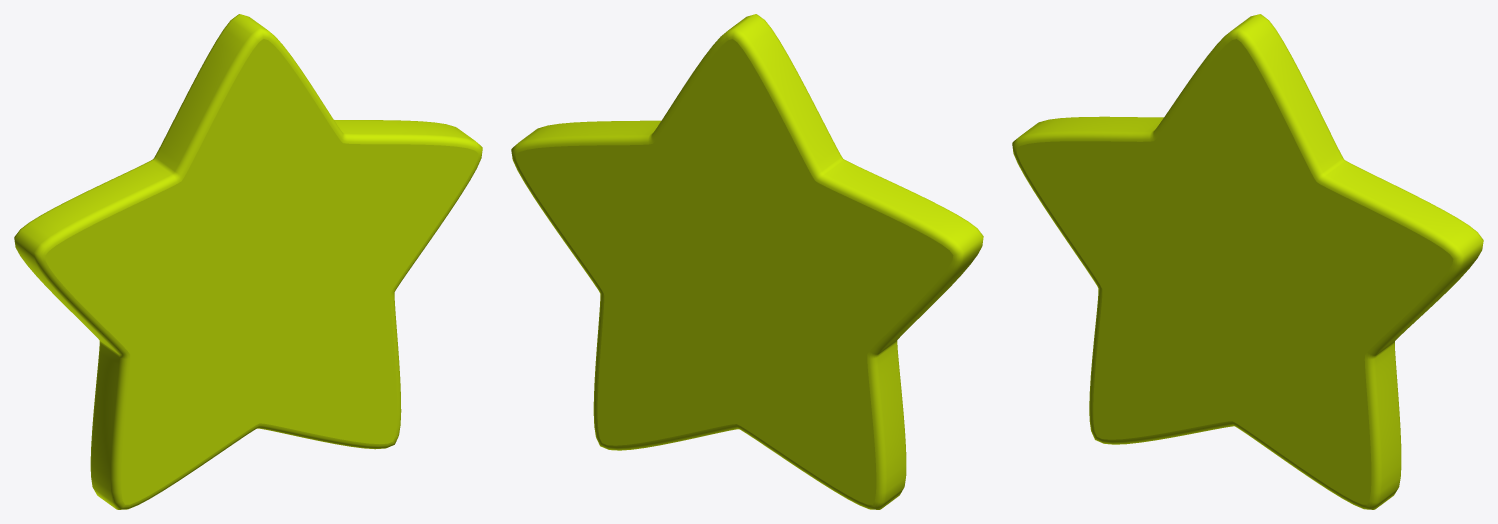
The model's file is スター.glb.
3 renders of one model, left to right at view 1: azimuth 30°, elevation 25°; view 2: azimuth 150°, elevation 25°; view 3: azimuth 330°, elevation 25°, orthographic.
Parts seen in each view (by area): view 1: Circle; view 2: Circle; view 3: Circle.
Boxes of the visible parts, left/top/right/bottom form: Circle: left=14, top=14, right=482, bottom=509; Circle: left=511, top=14, right=983, bottom=509; Circle: left=1012, top=14, right=1483, bottom=509.
Size of the model in its own units: 1.97 by 1.88 by 0.2133.
